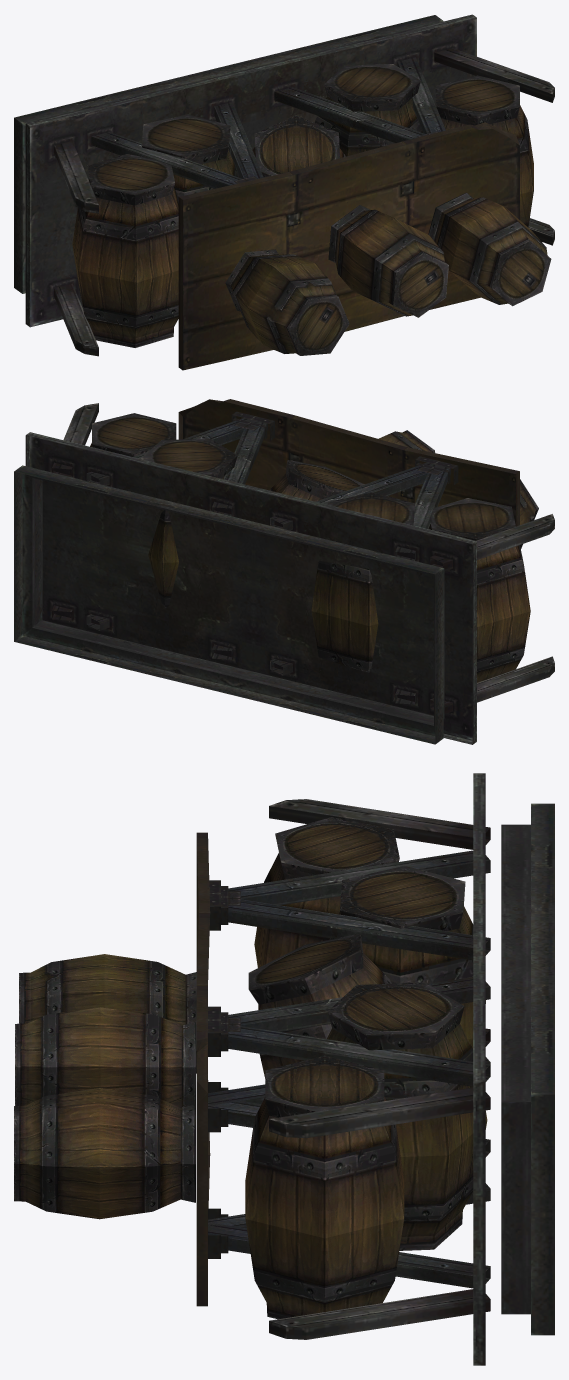
Rendered from tanxian_fuben_257_02a.obj.
3 renders of one model, top to bottom at view 1: azimuth 30°, elevation 25°; view 2: azimuth 150°, elevation 25°; view 3: azimuth 270°, elevation 25°, orthographic. The views are drawn at different scales.
Visible parts, largest first — view 1: tanxian_fuben_257_02a; view 2: tanxian_fuben_257_02a; view 3: tanxian_fuben_257_02a.
Part boxes in pixels (x1,y1,x2,y2): tanxian_fuben_257_02a: [14, 14, 554, 370]; tanxian_fuben_257_02a: [14, 399, 554, 744]; tanxian_fuben_257_02a: [14, 773, 554, 1365].
Size of the model in its own units: 258 by 104 by 180.
4 materials, 4 textured.
